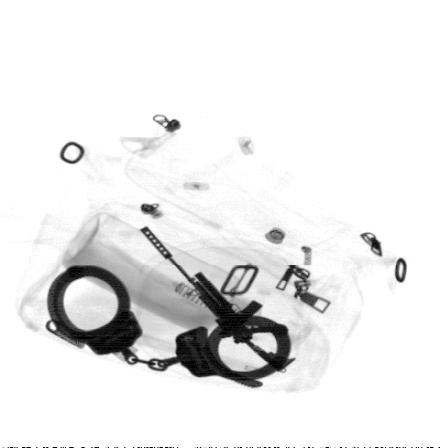Gun: (137, 226, 299, 374)
HandCuffs: (44, 261, 301, 387)
